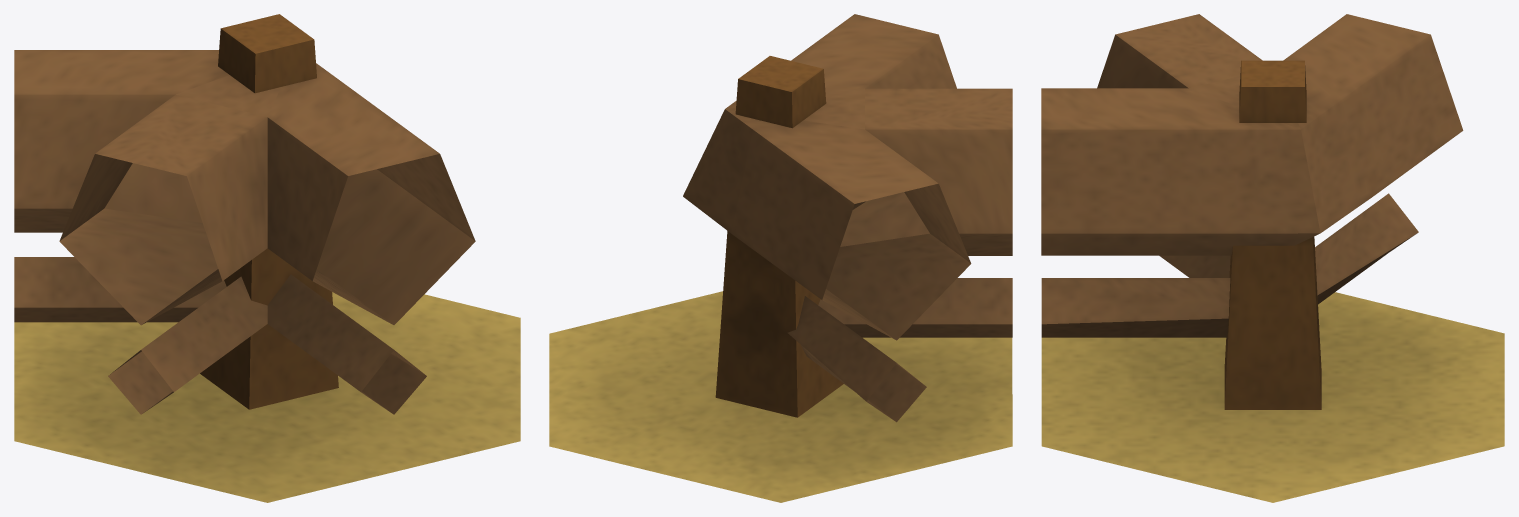
File: BarriereDesert_E.FBX
3 renders of one model, left to right at view 1: azimuth 30°, elevation 25°; view 2: azimuth 150°, elevation 25°; view 3: azimuth 270°, elevation 25°, orthographic. The views are drawn at different scales.
Visible parts, largest first — view 1: BarriereDesert_E; view 2: BarriereDesert_E; view 3: BarriereDesert_E.
Boxes of the visible parts, x1,y1,x2,y2 form: BarriereDesert_E: (14, 14, 520, 502); BarriereDesert_E: (549, 14, 1012, 502); BarriereDesert_E: (1041, 14, 1504, 502).
Size of the model in its own units: 1 by 0.6525 by 0.8661.
